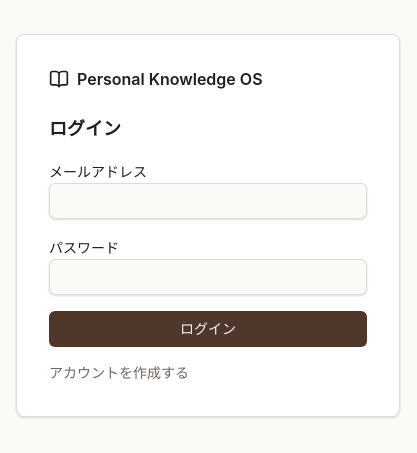
Test: ログイン画面 › signup停止中はアカウント作成が無効化され案内が表示される
The image size is (417, 453).
Click the button "アカウントを作成する".
click(119, 372)  # box left=49, top=362, right=189, bottom=382
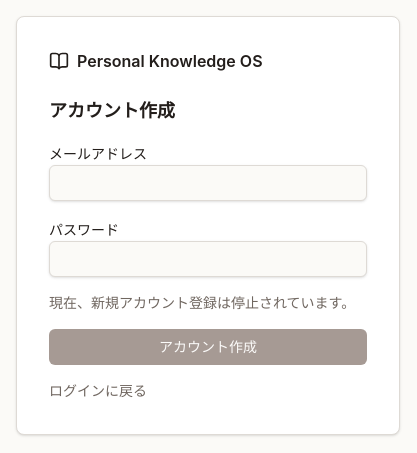
Now the message shows "新規アカウント登録は停止されています", box left=49, top=294, right=355, bottom=310
Now the button "アカウント作成" is disabled, box left=49, top=328, right=367, bottom=364
